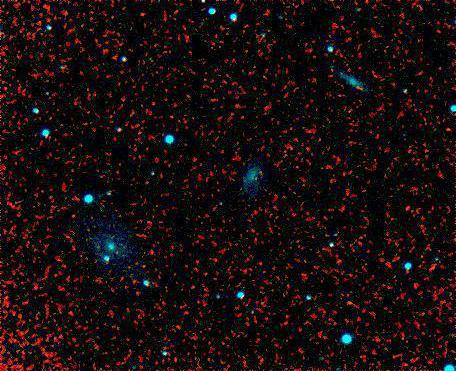star: (335, 289, 365, 319)
